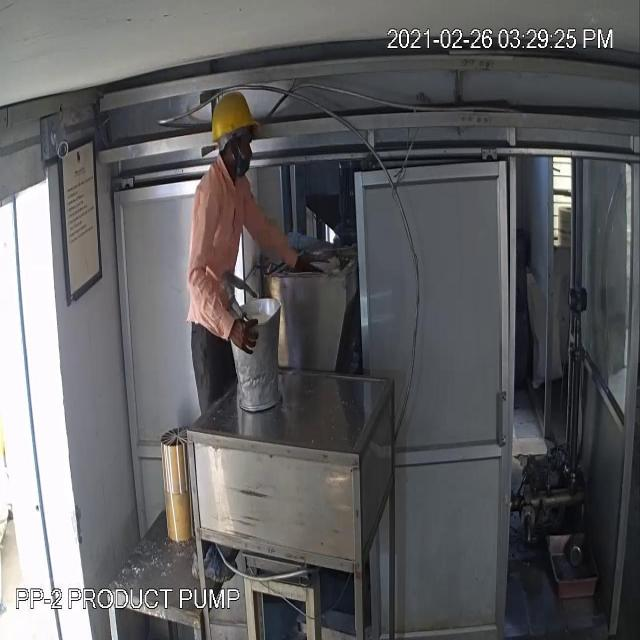helmet: (208, 92, 264, 144)
